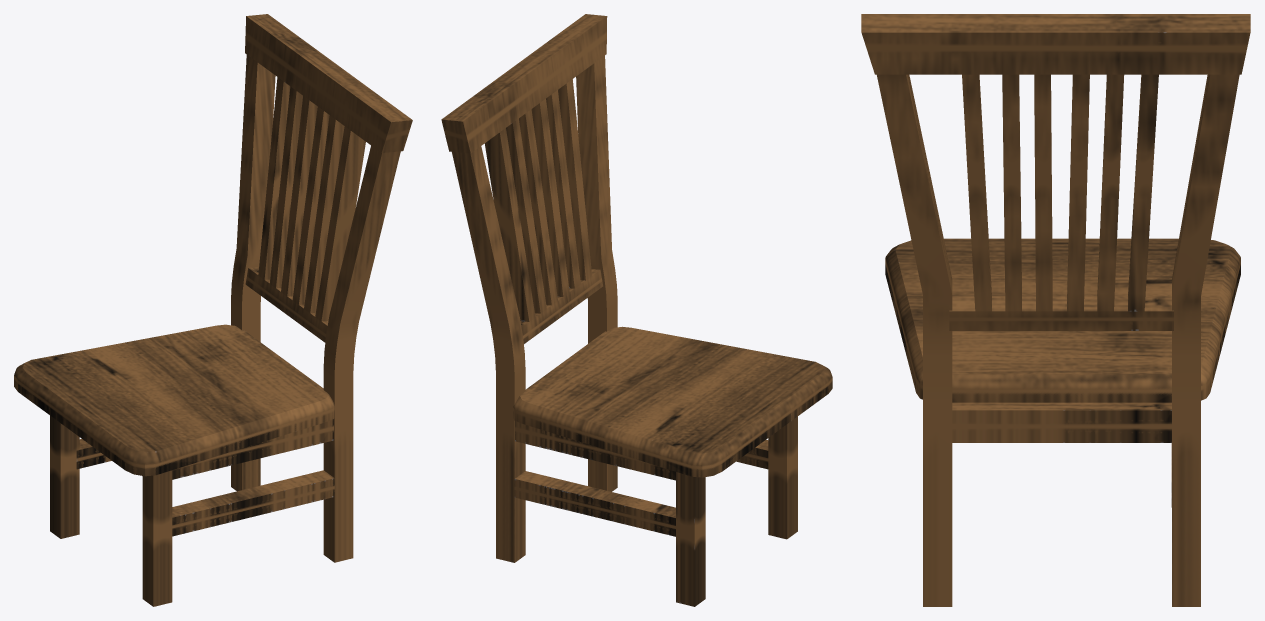
Rendered from sillaMadera1.fbx.
3 views of the same model, side by side, from view 1: azimuth 30°, elevation 25°; view 2: azimuth 150°, elevation 25°; view 3: azimuth 270°, elevation 25° (orthographic). The views are drawn at different scales.
Parts seen in each view (by area): view 1: sillaMadera1; view 2: sillaMadera1; view 3: sillaMadera1.
Boxes of the visible parts, bbox=[...] form: sillaMadera1: bbox=[14, 14, 412, 606]; sillaMadera1: bbox=[441, 14, 832, 606]; sillaMadera1: bbox=[861, 14, 1250, 606].
Bounding box in the file's own units: 1169 × 1885 × 1103.
